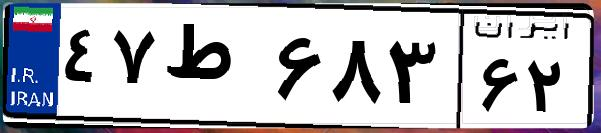2: (525, 38, 570, 115)
3: (385, 28, 445, 110)
4: (57, 26, 110, 100)
6: (270, 28, 330, 110), (475, 38, 525, 113)
7: (110, 28, 158, 98)
8: (330, 28, 385, 110)
ط: (158, 20, 270, 120)
